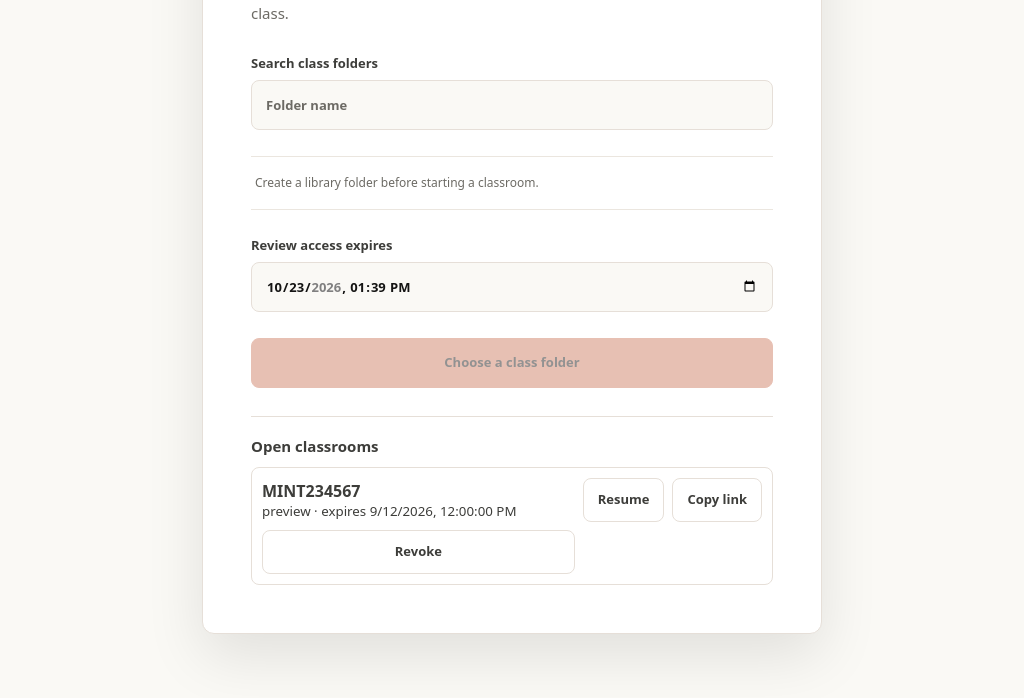
Test: Classroom teacher fresh-tab resume › resumes only an authenticated discovered session with its immutable snapshot
(page scrolled)
Step 1. Click the button "Resume" → (624,500), box 583,478 -> 664,522
(page scrolled)
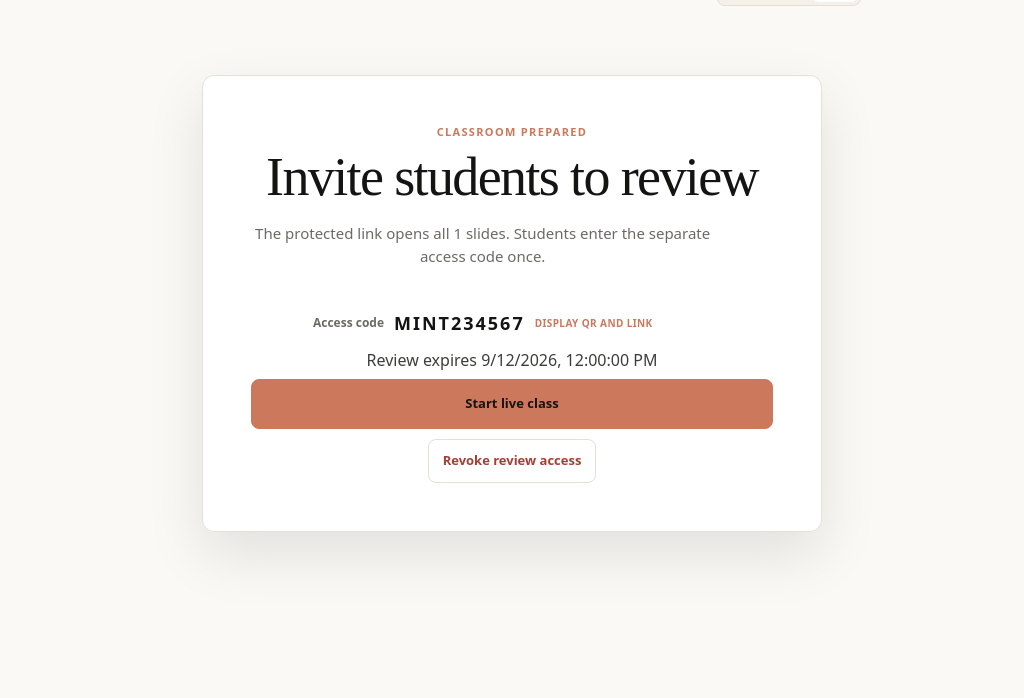
Expected: the heading "Invite students to review" is shown, 251,151 -> 773,204
